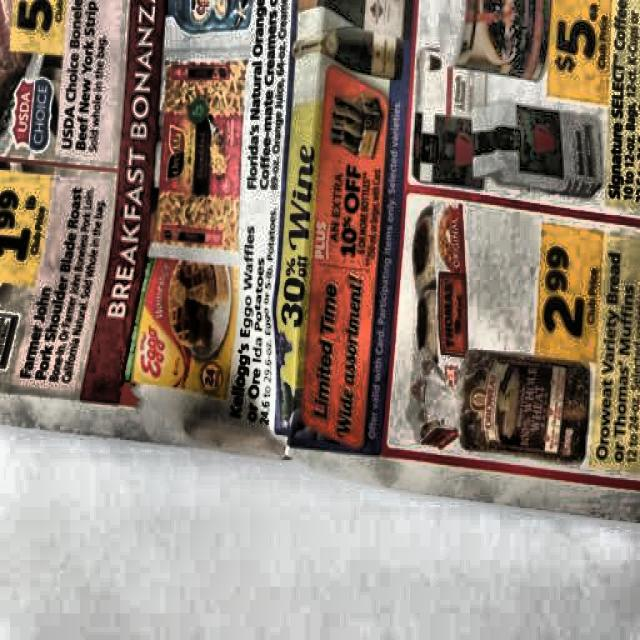paper: (0, 0, 637, 537)
